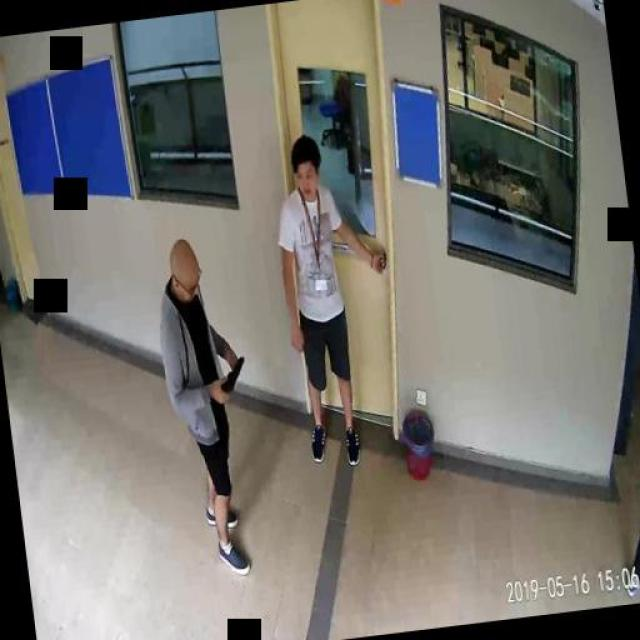gun: (215, 354, 247, 398)
